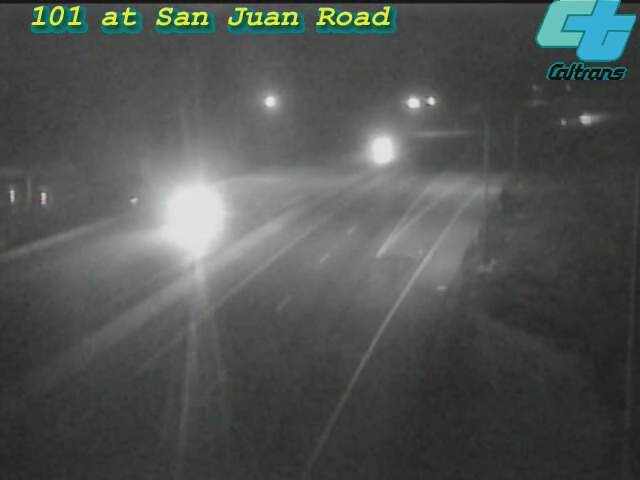vehicle: (157, 173, 237, 253), (340, 110, 420, 190), (563, 94, 613, 144), (541, 97, 591, 147)
